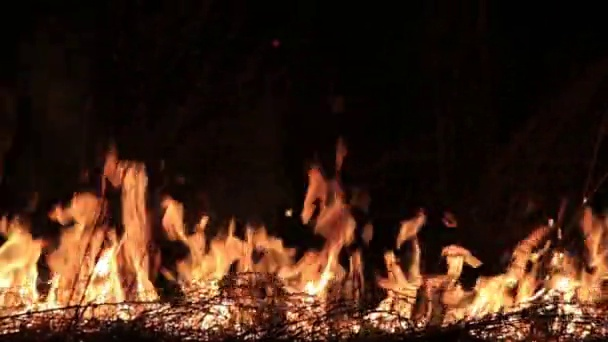fire: (163, 159, 359, 330), (379, 207, 608, 339), (1, 158, 154, 321)
